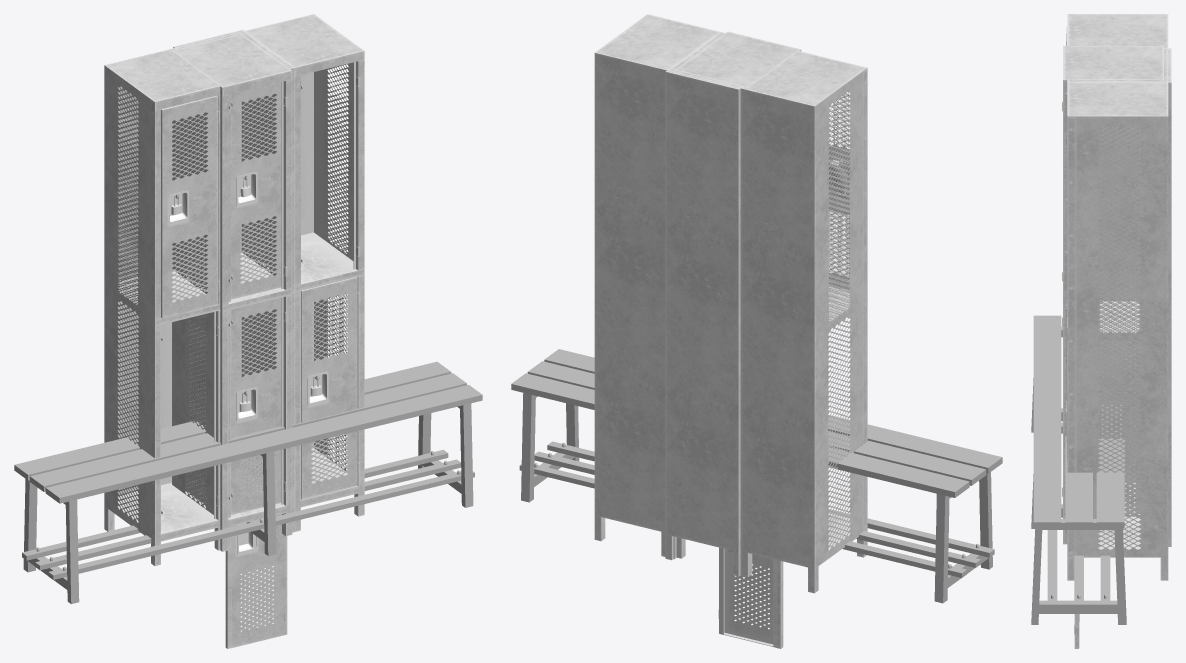
Rendered from FBX_LockerRooms_Combine.fbx.
3 views of the same model, side by side, from view 1: azimuth 30°, elevation 25°; view 2: azimuth 150°, elevation 25°; view 3: azimuth 270°, elevation 25° (orthographic). The views are drawn at different scales.
Visible parts, largest first — view 1: SM_LockerRooms, SM_LockerRoomBench, SM_LockerRoomB, SM_LockerRoomA, SM_LockerRoom, SM_LockerRoomA_DoorB, SM_LockerRoomA_DoorA, SM_LockerRooms_DoorC, SM_LockerRooms_DoorD; view 2: SM_LockerRooms, SM_LockerRoomB, SM_LockerRoomBench, SM_LockerRoom, SM_LockerRooms_DoorA, SM_LockerRoomA_DoorA; view 3: SM_LockerRooms, SM_LockerRoomBench, SM_LockerRoomB, SM_LockerRoom.
Part boxes in pixels (box(x1,y1,x2,y2)): SM_LockerRooms: box(104, 14, 364, 565); SM_LockerRoomBench: box(14, 361, 482, 603); SM_LockerRoomB: box(173, 30, 281, 514); SM_LockerRoomA: box(172, 81, 292, 551); SM_LockerRoom: box(172, 33, 292, 536); SM_LockerRoomA_DoorB: box(231, 472, 287, 648); SM_LockerRoomA_DoorA: box(229, 452, 277, 648); SM_LockerRooms_DoorC: box(225, 476, 284, 648); SM_LockerRooms_DoorD: box(225, 481, 284, 648); SM_LockerRooms: box(594, 14, 867, 593); SM_LockerRoomB: box(665, 70, 740, 576); SM_LockerRoomBench: box(511, 349, 1002, 603); SM_LockerRoom: box(675, 31, 801, 570); SM_LockerRooms_DoorA: box(722, 548, 780, 648); SM_LockerRoomA_DoorA: box(720, 548, 779, 647); SM_LockerRooms: box(1066, 14, 1168, 580); SM_LockerRoomBench: box(1031, 315, 1126, 624); SM_LockerRoomB: box(1098, 48, 1171, 546); SM_LockerRoom: box(1062, 46, 1163, 544).
Bounding box in the file's own units: 1.85 × 2.37 × 0.5295.
